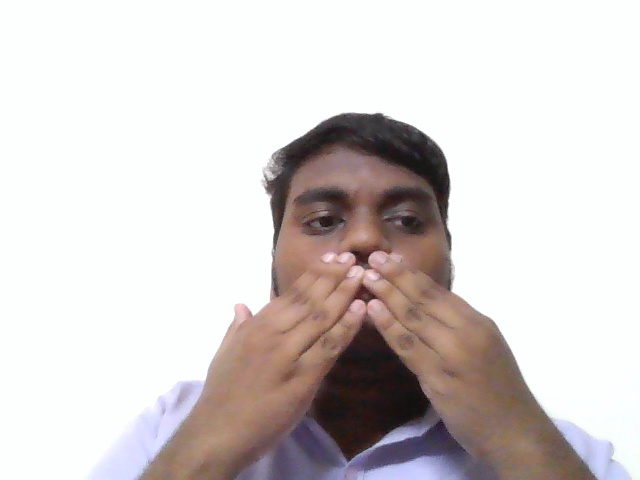Thank you: (155, 247, 561, 461)
